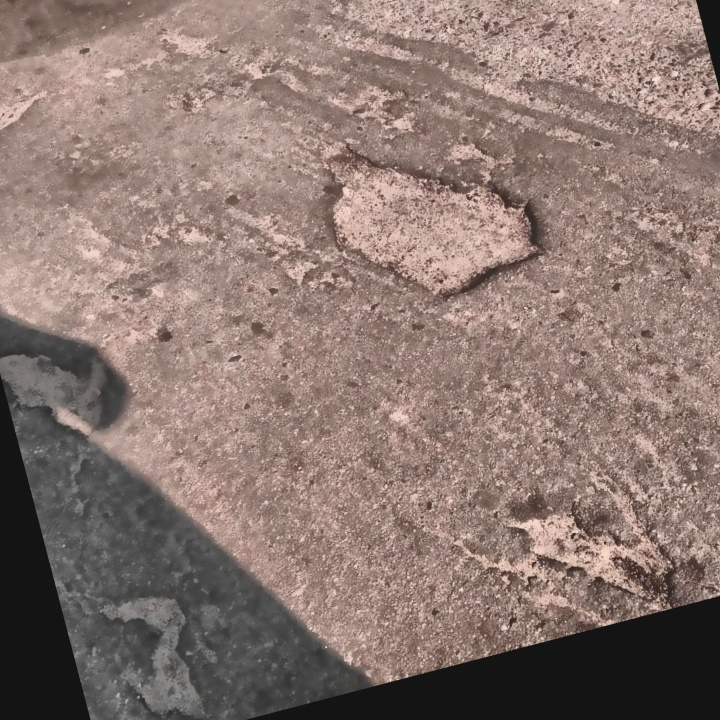pothole: (300, 90, 561, 328), (499, 475, 695, 644)
